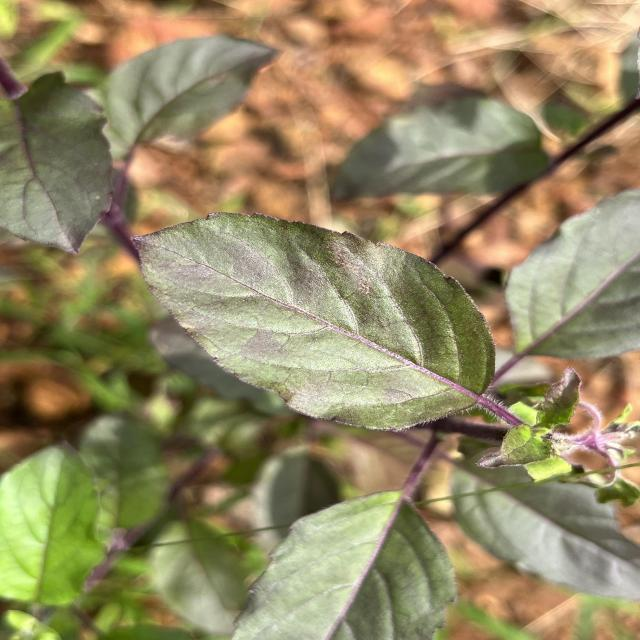Ocimum tenuiflorum: (124, 207, 504, 435)
